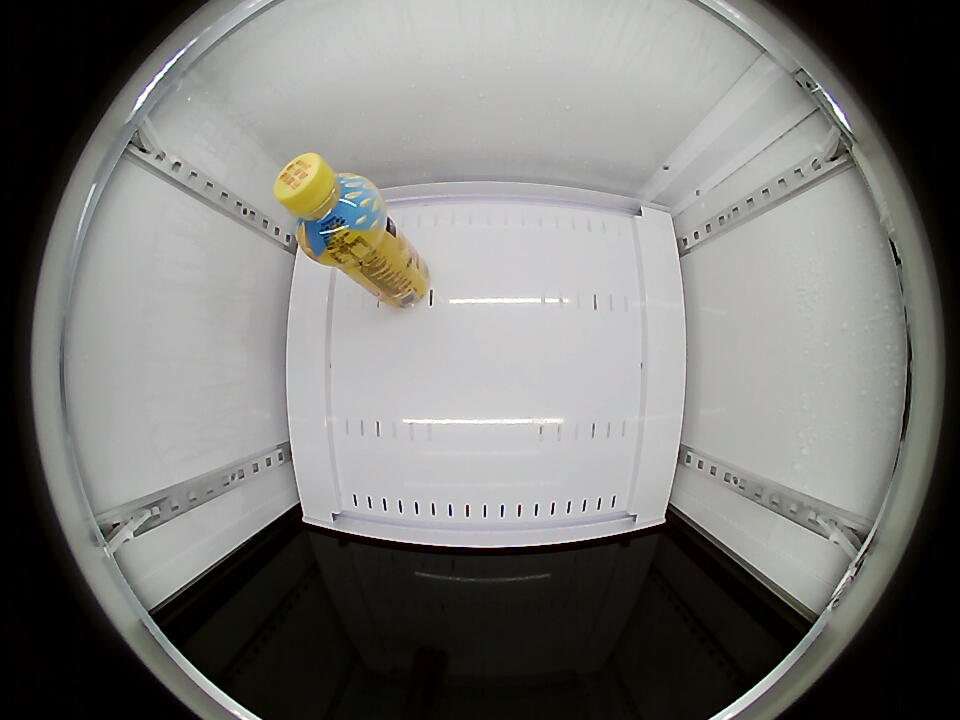guolicheng: (275, 153, 383, 260)
